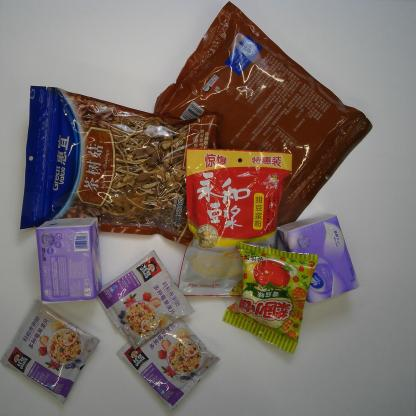Dried Food: (152, 0, 374, 228), (18, 84, 219, 245)
Instant Drink: (178, 146, 294, 298), (0, 298, 100, 405), (115, 319, 221, 414), (97, 249, 196, 350)
Puffed Food: (221, 241, 319, 355)
Tissue: (278, 212, 361, 304), (35, 217, 104, 304)
